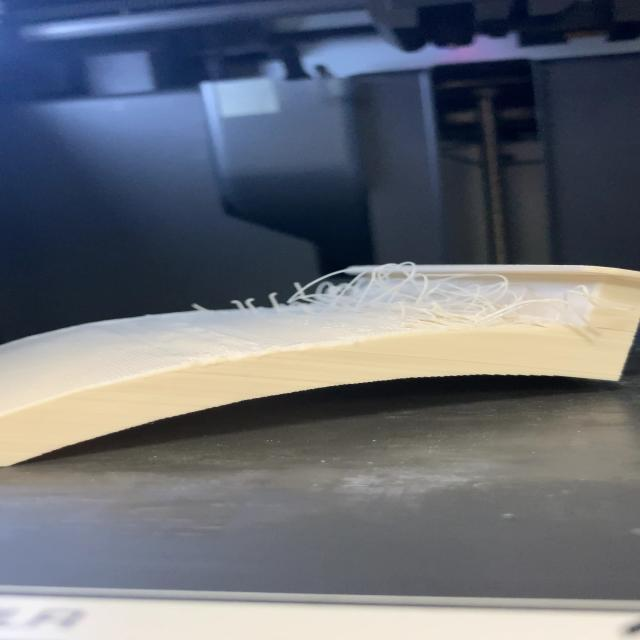spaghetti: (186, 260, 606, 342)
